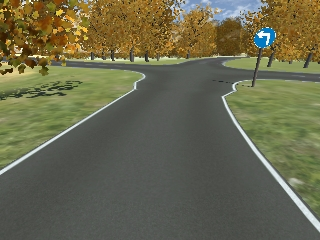left: (252, 28, 275, 49)
